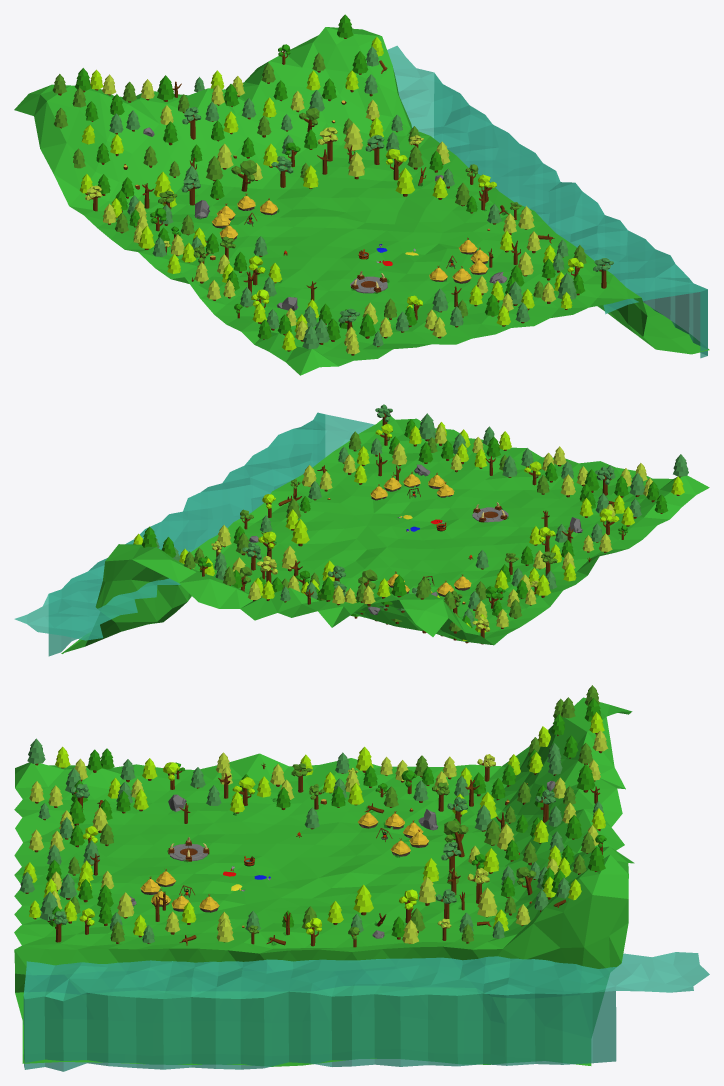
The model's file is BattleSceNoShop0514.FBX.
The picture shows the model from 3 angles, top to bottom: view 1: azimuth 30°, elevation 25°; view 2: azimuth 150°, elevation 25°; view 3: azimuth 270°, elevation 25°; orthographic projection. The views are drawn at different scales.
Parts seen in each view (by area): view 1: Object004, river, Cylinder018; view 2: Object004, river, Cylinder018; view 3: Object004, river, Cylinder018.
Boxes of the visible parts, x1,y1,x2,y2 form: Object004: [14, 27, 709, 375]; river: [387, 45, 707, 358]; Cylinder018: [350, 271, 387, 293]; Object004: [61, 416, 709, 653]; river: [14, 412, 374, 656]; Cylinder018: [472, 502, 508, 522]; Object004: [14, 697, 634, 1066]; river: [23, 952, 709, 1071]; Cylinder018: [168, 837, 209, 861].
Bounding box in the file's own units: 220 × 89.75 × 296.
